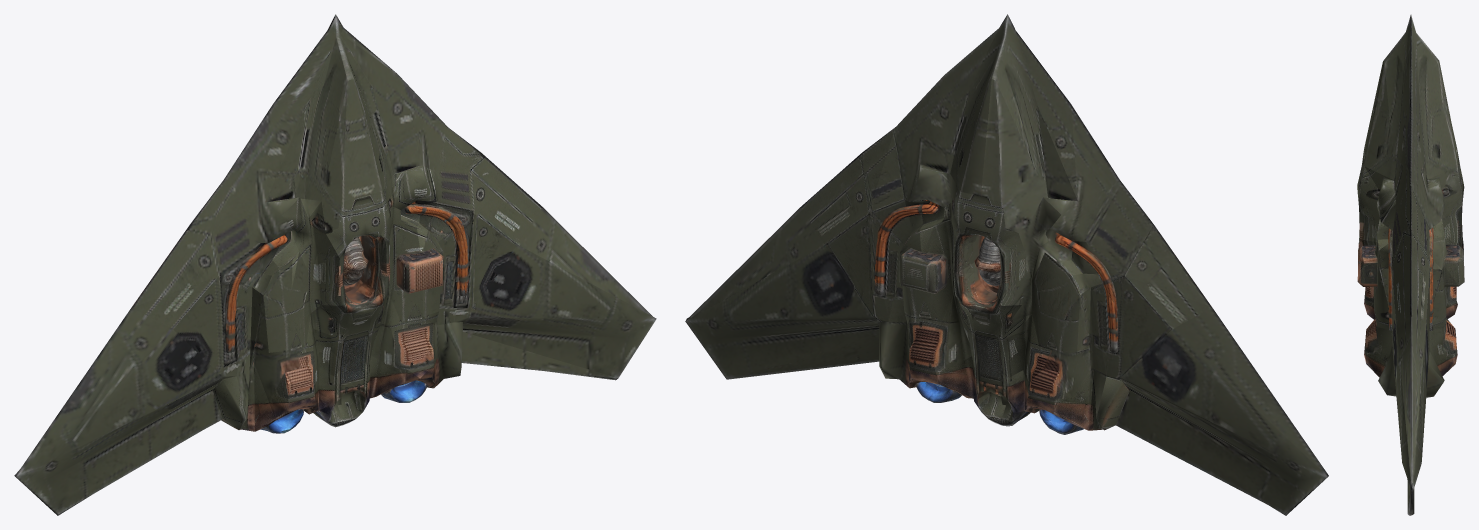
The model's file is shooter.glb.
3 renders of one model, left to right at view 1: azimuth 30°, elevation 25°; view 2: azimuth 150°, elevation 25°; view 3: azimuth 270°, elevation 25°, orthographic. The views are drawn at different scales.
Visible parts, largest first — view 1: mesh_node; view 2: mesh_node; view 3: mesh_node.
Part boxes in pixels (x1=…): mesh_node: x1=14, y1=14, x2=656, y2=515; mesh_node: x1=685, y1=14, x2=1328, y2=515; mesh_node: x1=1357, y1=14, x2=1464, y2=515.
Bounding box in the file's own units: 1 × 0.6465 × 0.1646.
1 material, 1 textured.
